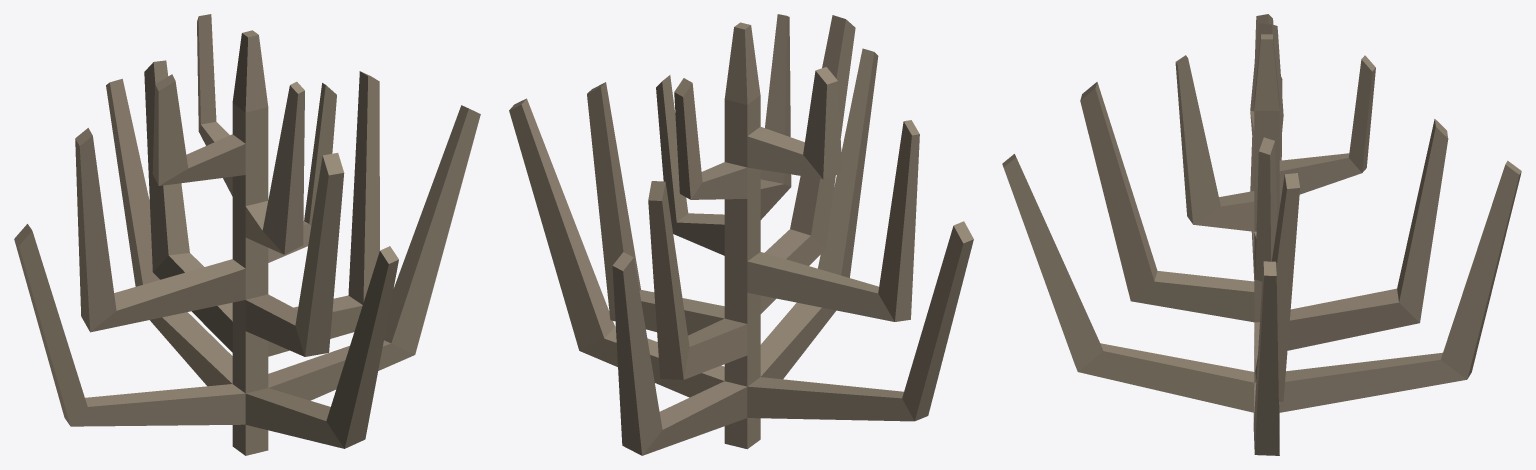
The model's file is item_burr.fbx.
3 views of the same model, side by side, from view 1: azimuth 30°, elevation 25°; view 2: azimuth 150°, elevation 25°; view 3: azimuth 270°, elevation 25° (orthographic). The views are drawn at different scales.
Visible parts, largest first — view 1: item_burr; view 2: item_burr; view 3: item_burr.
Boxes of the visible parts, x1,y1,x2,y2 form: item_burr: [14, 14, 480, 455]; item_burr: [509, 14, 973, 455]; item_burr: [1002, 14, 1521, 455].
Size of the model in its own units: 405 by 349 by 410.
